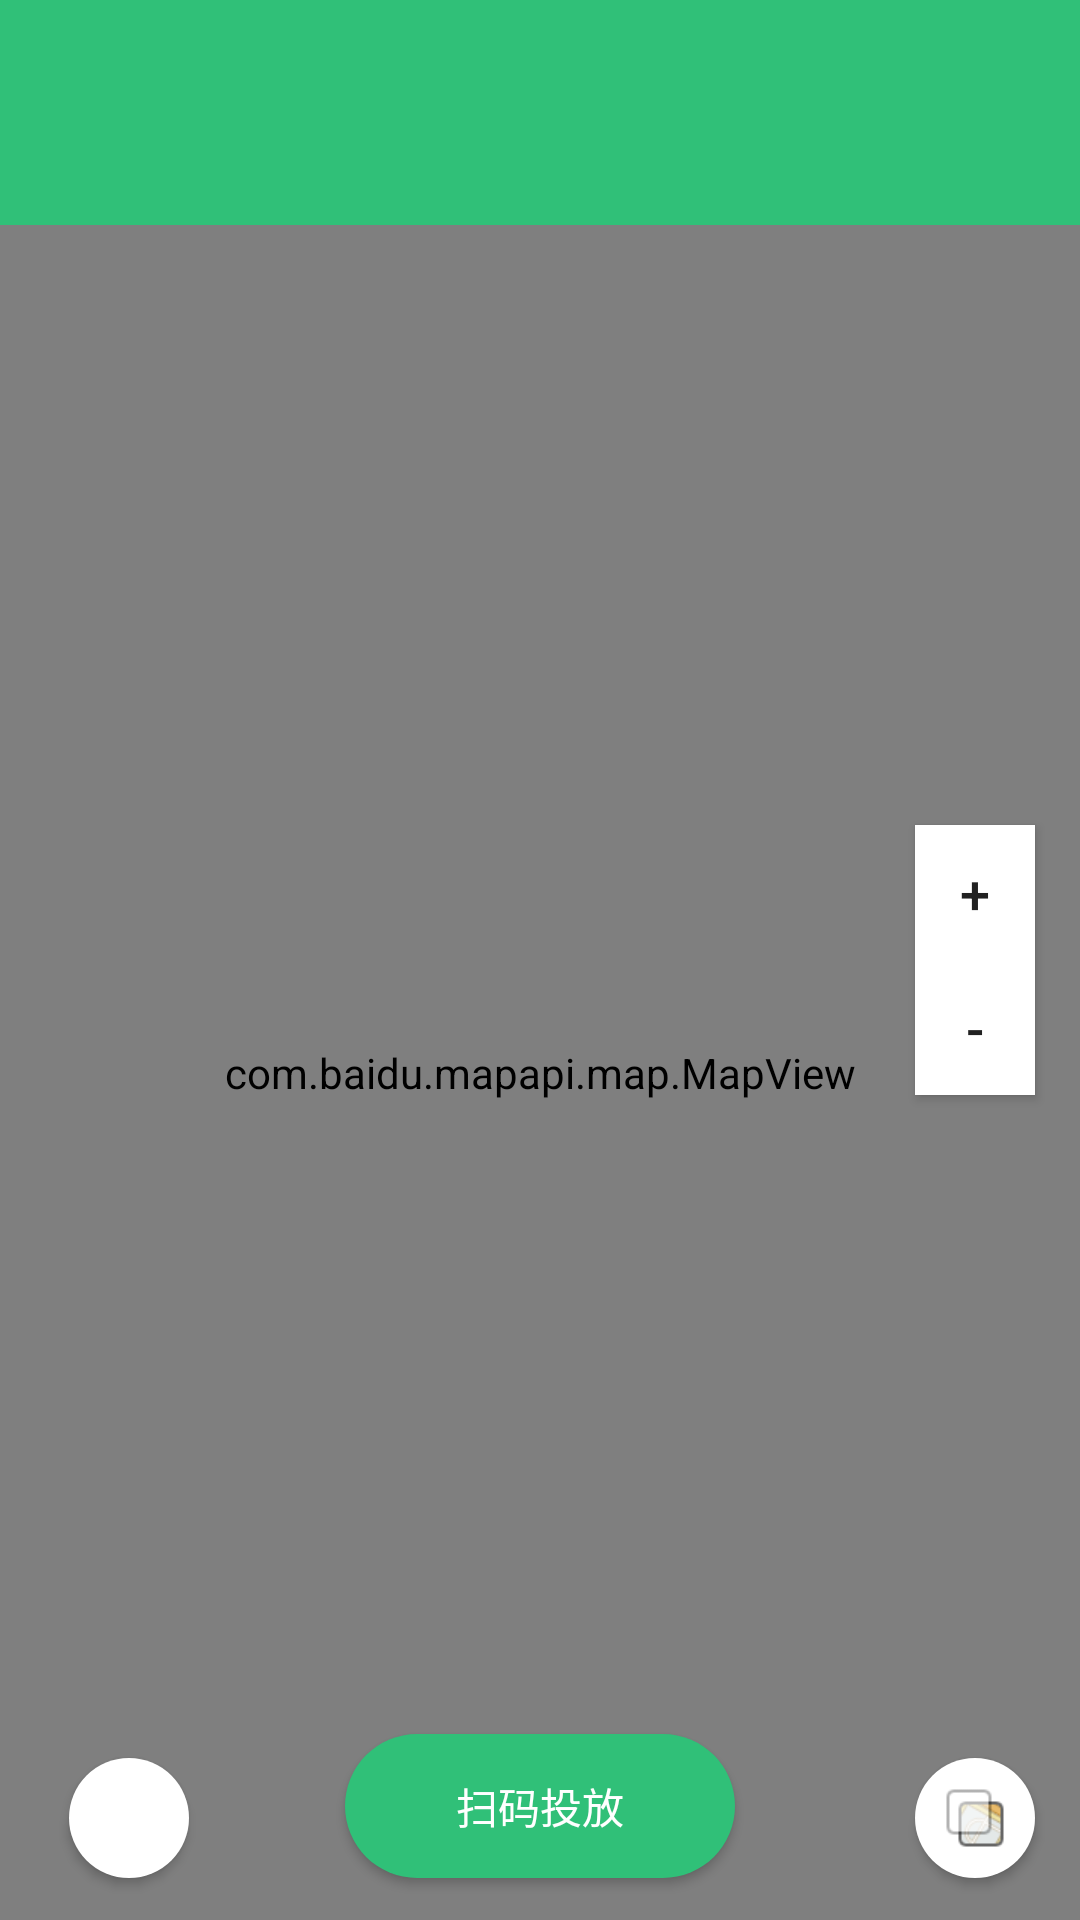

Icon click points for this 1080x1920 phone screenshot, format (x,y):
maplayers: (975,1818)
